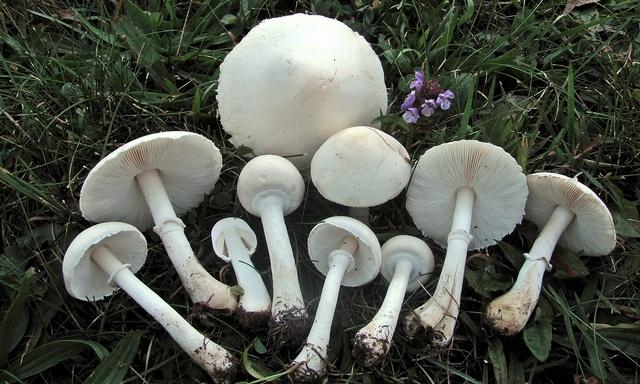poisonous_mushroom: (43, 9, 520, 339), (482, 170, 617, 336)
